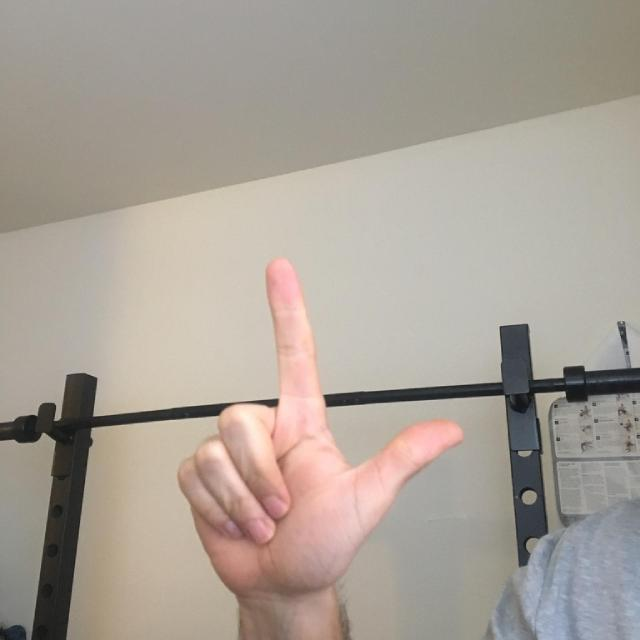L: (117, 200, 498, 634)
